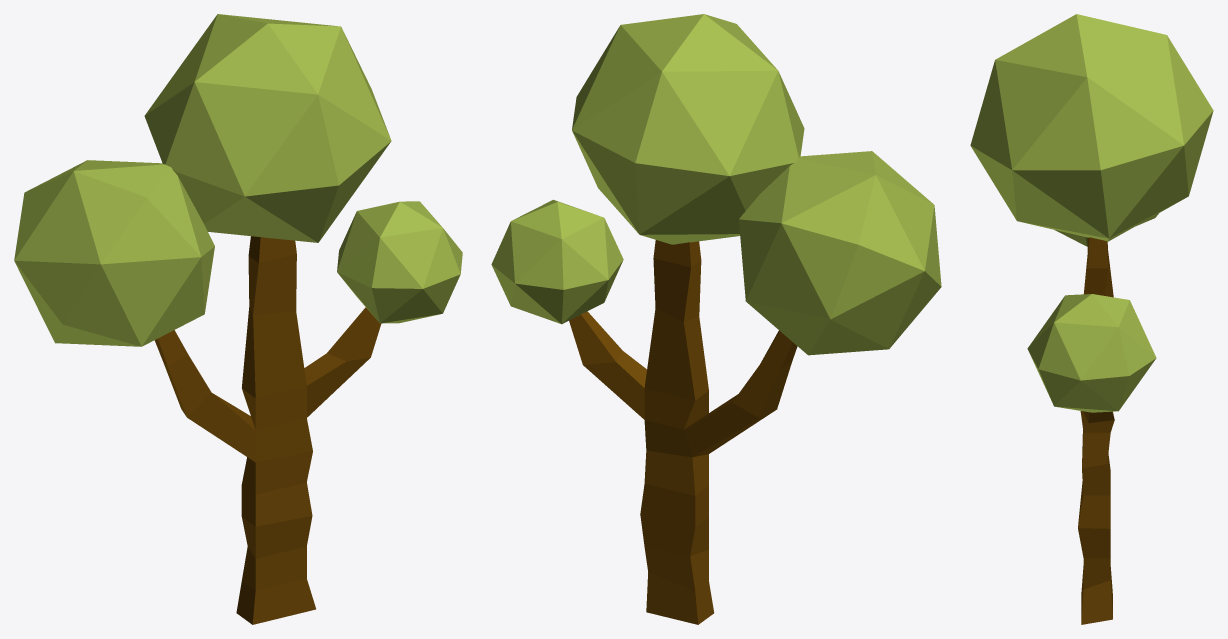
3 views of the same model, side by side, from view 1: azimuth 30°, elevation 25°; view 2: azimuth 150°, elevation 25°; view 3: azimuth 270°, elevation 25° (orthographic). The views are drawn at different scales.
Parts seen in each view (by area): view 1: Sphere_90, Cube_119, Sphere_1_52, Sphere_2_29; view 2: Sphere_90, Sphere_1_52, Cube_119, Sphere_2_29; view 3: Sphere_90, Sphere_2_29, Cube_119.
Part boxes in pixels (x1,y1,x2,y2): Sphere_90: (144, 14, 391, 242); Cube_119: (154, 236, 381, 624); Sphere_1_52: (14, 160, 214, 346); Sphere_2_29: (337, 201, 462, 323); Sphere_90: (572, 14, 804, 244); Sphere_1_52: (738, 151, 941, 355); Cube_119: (569, 240, 797, 624); Sphere_2_29: (491, 199, 623, 324); Sphere_90: (970, 14, 1213, 241); Sphere_2_29: (1027, 294, 1156, 412); Cube_119: (1078, 237, 1114, 624).
Size of the model in its own units: 471 by 620 by 233.
